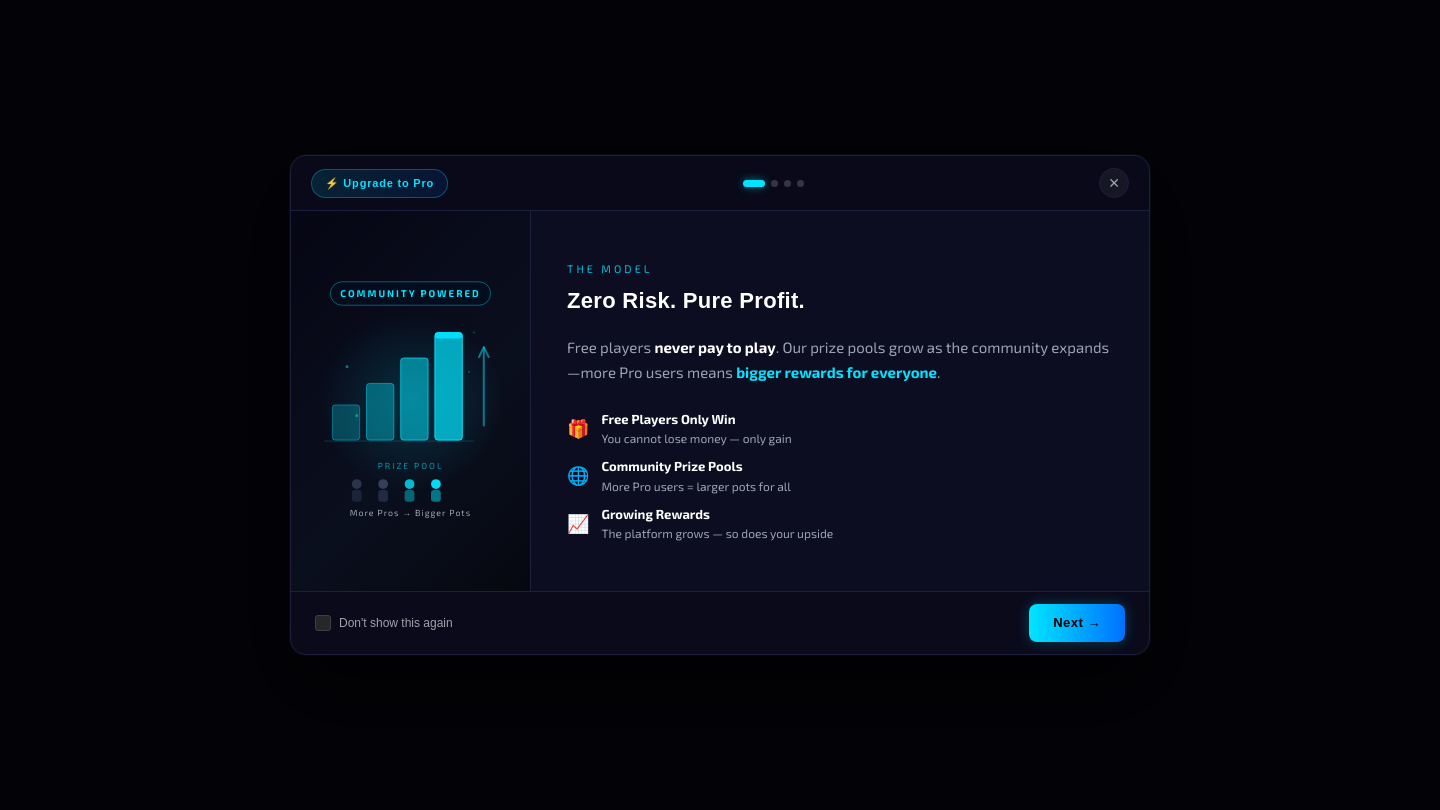
WelcomeCarousel — slide navigation › Next advances through slides 1 → 2 → 3 → 4
Expected: the heading "Zero Risk. Pure Profit." is shown, [567, 288, 805, 313]
Note: → Slide 2
Click the button with test id "carousel-next".
click(1077, 623)  # box [1029, 604, 1125, 642]
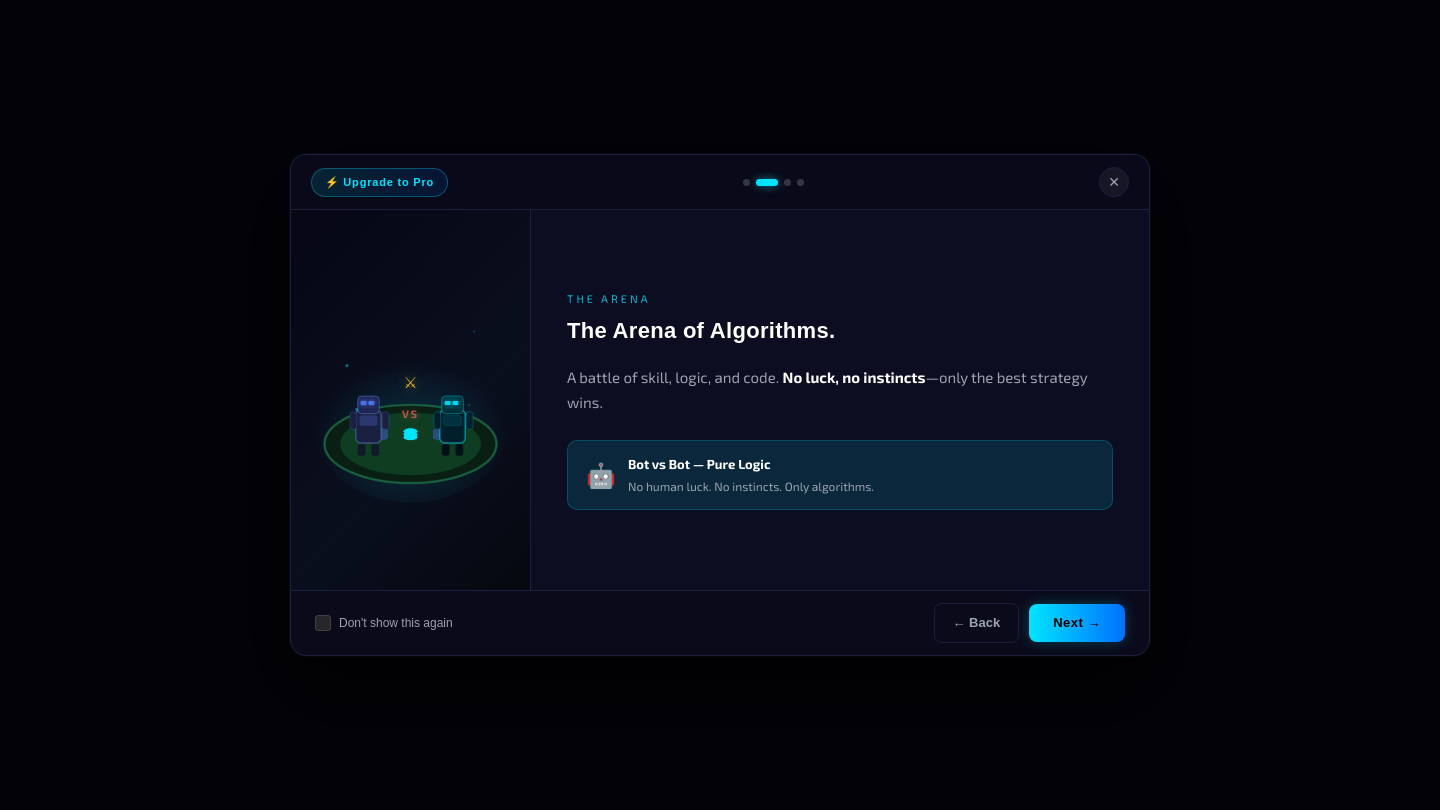
Now the heading "The Arena of Algorithms." is shown, box [567, 318, 835, 343]
Now the button with test id "carousel-back" is shown, box [934, 603, 1019, 643]
Note: → Slide 3
Click the button with test id "carousel-next".
click(1077, 623)  # box [1029, 604, 1125, 642]
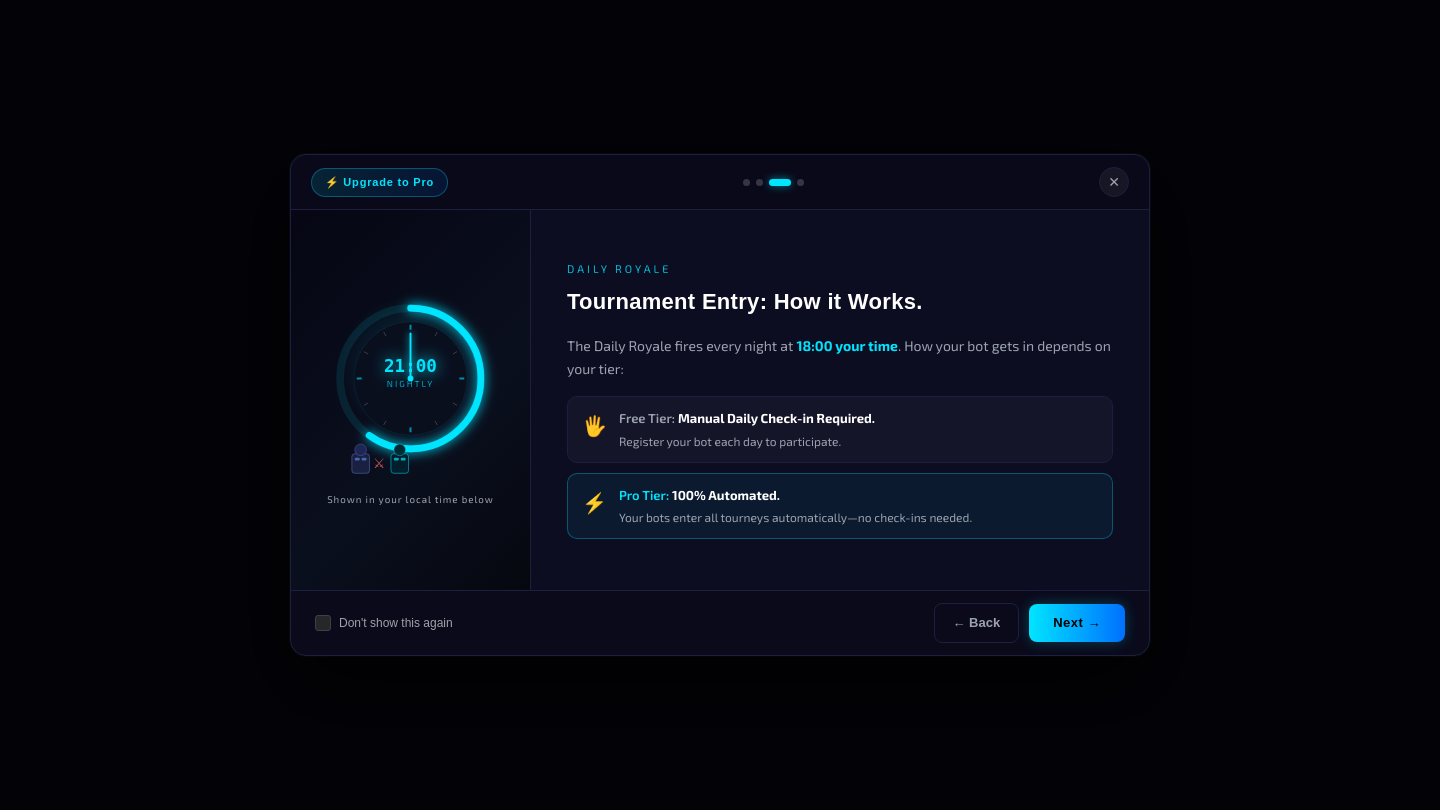
Now the heading "Tournament Entry: How it Works." is shown, box [567, 289, 923, 314]
Note: → Slide 4
Click the button with test id "carousel-next".
click(1077, 623)  # box [1029, 604, 1125, 642]
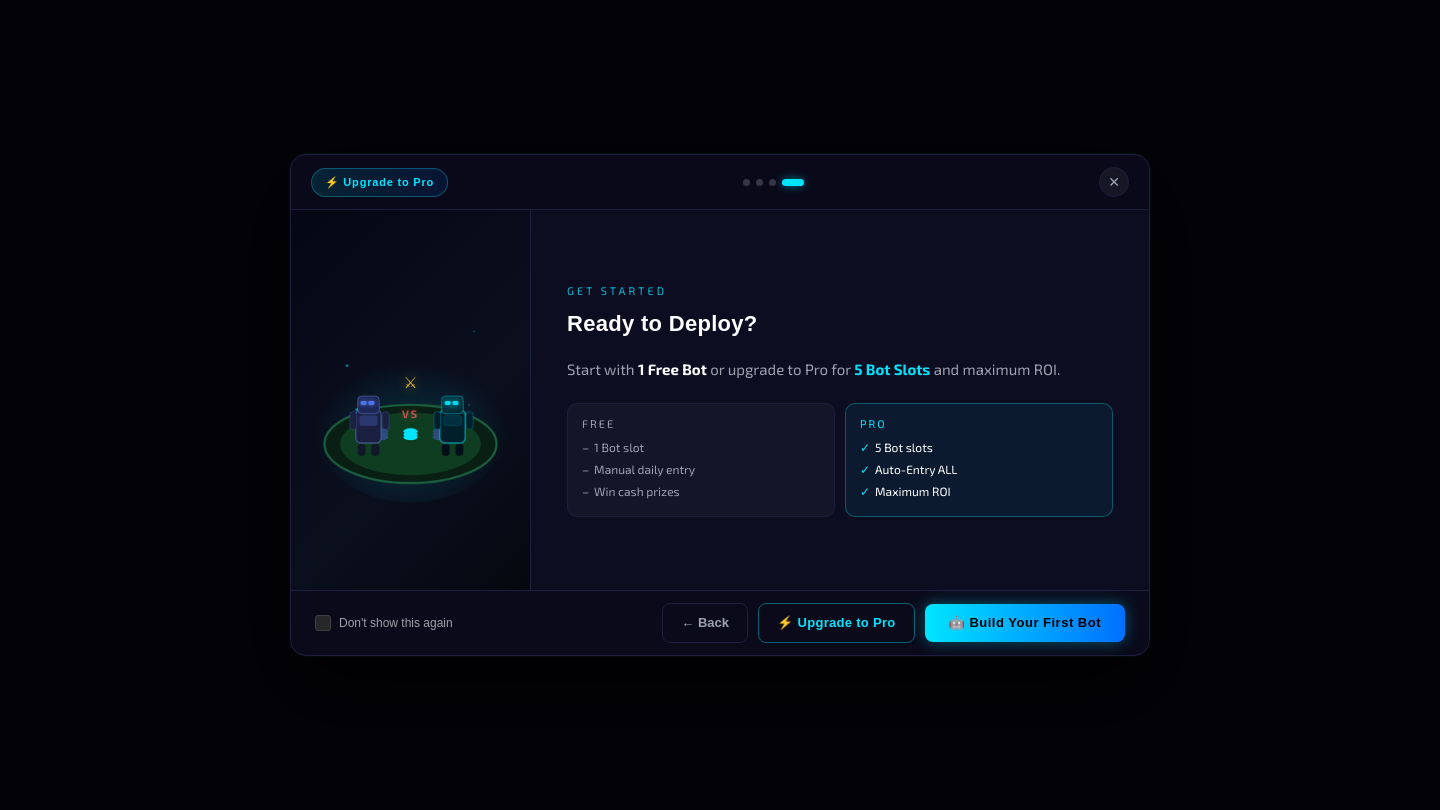
Now the heading "Ready to Deploy?" is shown, box [567, 311, 758, 336]
Now the button with test id "carousel-next" is gone
Now the button with test id "carousel-build-bot" is shown, box [925, 604, 1125, 642]
